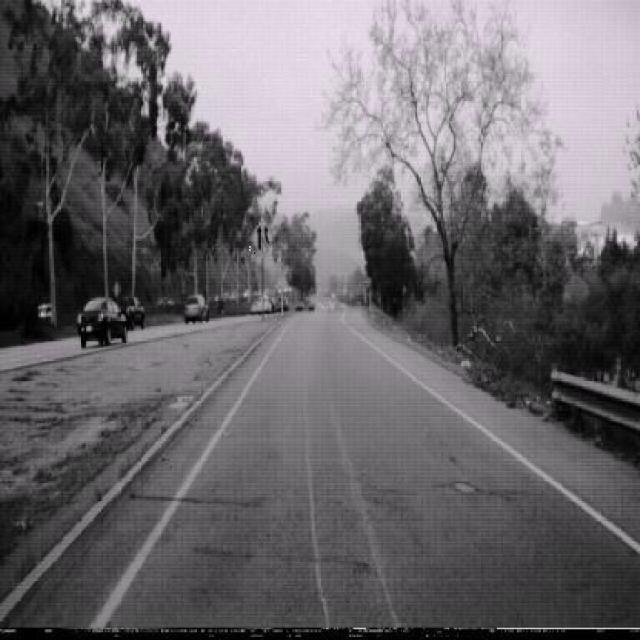addedLane: (251, 214, 275, 260)
